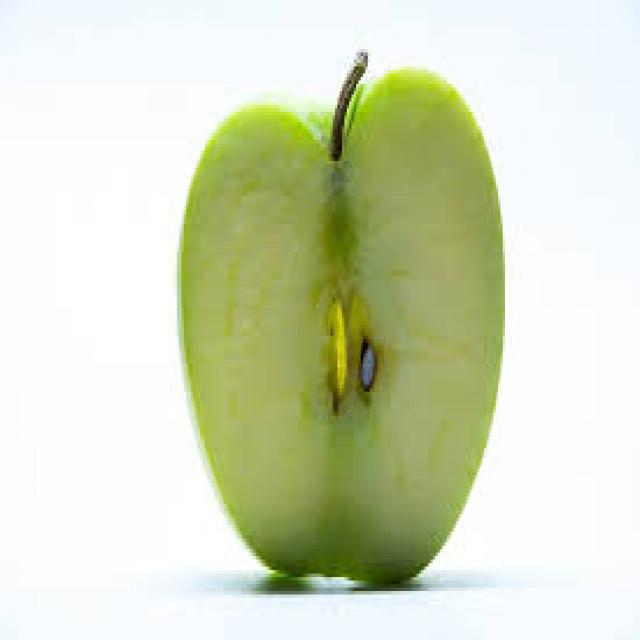Apple: (179, 58, 505, 586)
